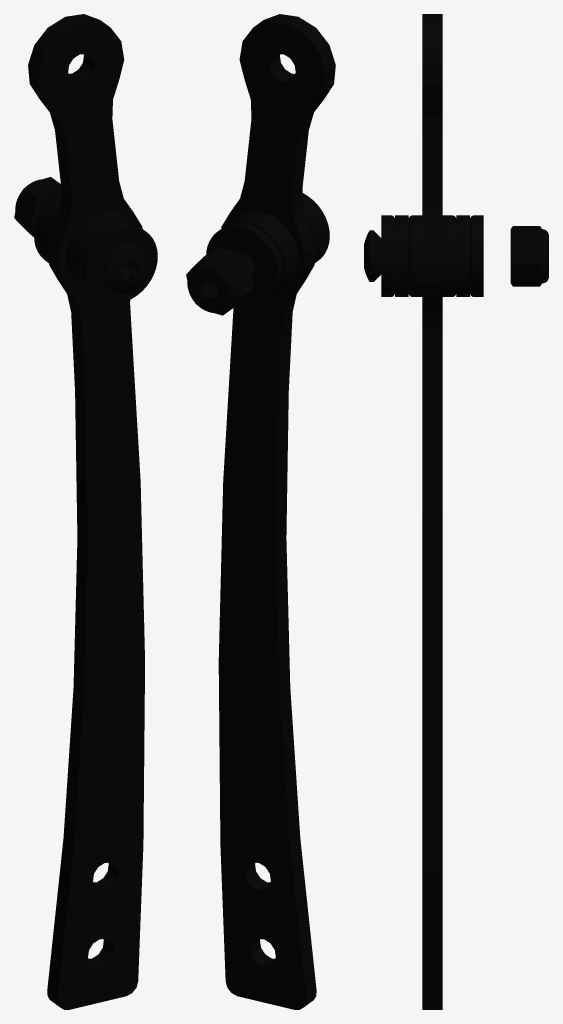
3 renders of one model, left to right at view 1: azimuth 30°, elevation 25°; view 2: azimuth 150°, elevation 25°; view 3: azimuth 270°, elevation 25°, orthographic.
Visible parts, largest first — view 1: rb3; view 2: rb3; view 3: rb3.
Boxes of the visible parts, left/top/right/bottom form: rb3: left=14, top=14, right=157, bottom=1009; rb3: left=186, top=14, right=335, bottom=1009; rb3: left=364, top=14, right=548, bottom=1009.
Size of the model in its own units: 0.0089 by 0.0136 by 0.0784.
Materials: 1 (1 with a texture image).
